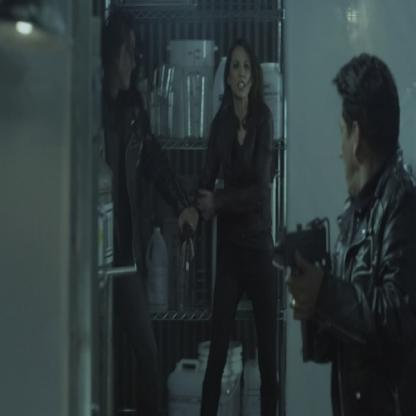Guns: (266, 211, 330, 363)
